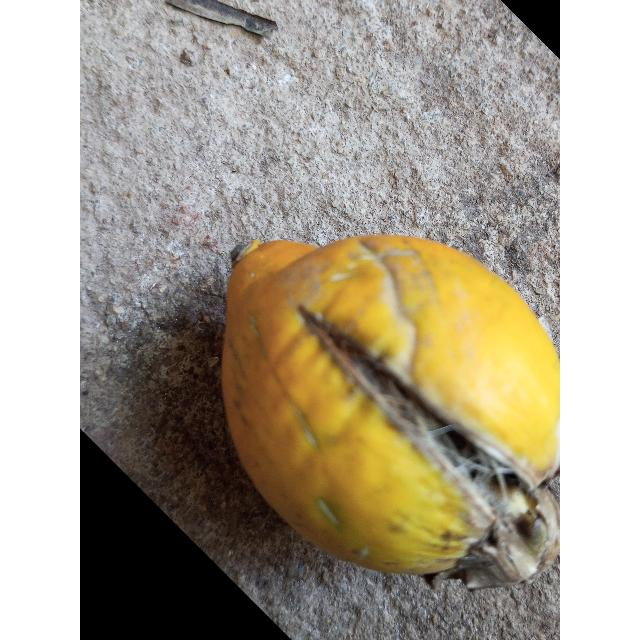damaged: (221, 235, 560, 594)
